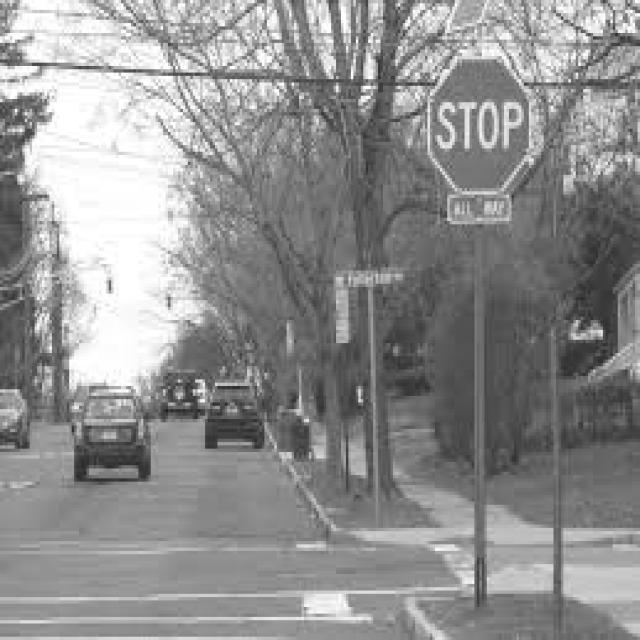stop sign: (429, 53, 534, 228)
